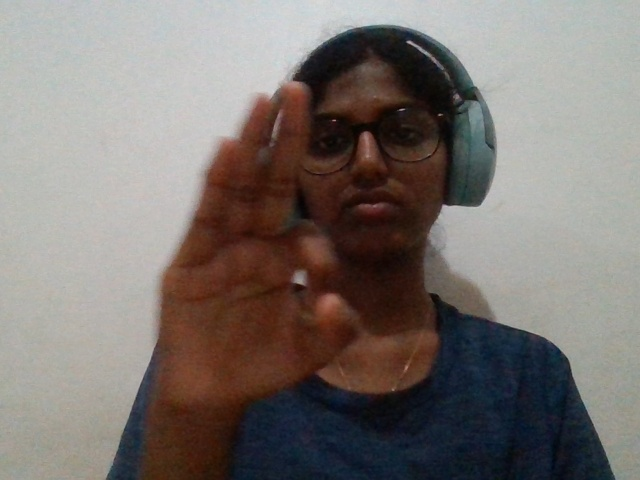F: (117, 70, 375, 466)
